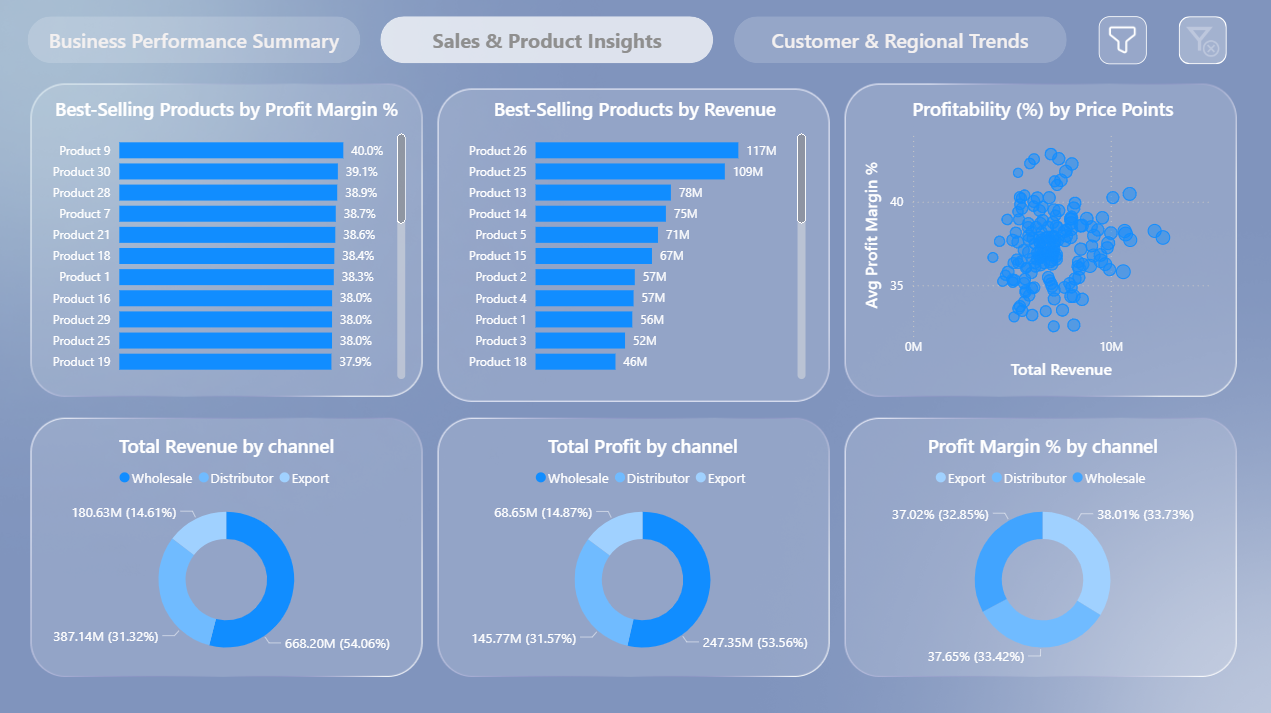

The dashboard page shown, as its layout file describes it:
{"tool":"powerbi","page":{"name":"Sales & Product Insights","canvas":[1280,720],"ordinal":1},"visuals":[{"type":"barChart","title":"Best-Selling Products by Profit Margin %","fields":{"Category":["EDA_MASTER_DATA.product_name"],"Y":["Query1.Profit Margin %"]},"box":[48,96,368,288],"z":0},{"type":"barChart","title":"Best-Selling Products by Revenue","fields":{"Category":["EDA_MASTER_DATA.product_name"],"Y":["Sum(EDA_MASTER_DATA.revenue)"]},"box":[464,96,352,288],"z":1000},{"type":"scatterChart","title":"Profitability (%) by Price Points","fields":{"X":["Customer Summary.Total Revenue"],"Y":["Customer Summary.Avg Profit Margin %"],"Size":["Sum(Customer Summary.Order Count)"]},"box":[864,96,368,288],"z":2000},{"type":"donutChart","fields":{"Category":["EDA_MASTER_DATA.channel"],"Y":["Query1.Total Revenue"]},"box":[48,432,368,240],"z":3000},{"type":"donutChart","fields":{"Category":["EDA_MASTER_DATA.channel"],"Y":["Query1.Profit Margin %"]},"box":[864,432,368,240],"z":4000},{"type":"donutChart","fields":{"Category":["EDA_MASTER_DATA.channel"],"Y":["Query1.Total Profit"]},"box":[464,432,368,240],"z":5000},{"type":"image","box":[1104,16,48,48],"z":6000},{"type":"actionButton","box":[1184,16,48,48],"z":8000},{"type":"pageNavigator","box":[32,16,1040,48],"z":9000}]}

Visuals, with their boxes in screenshot pixels (x1, y1, x2, y2), scaled from the page's 1280x720 canvas onto the 1271x713 screenshot:
"Best-Selling Products by Profit Margin %" barChart: l=48, t=95, r=413, b=380
"Best-Selling Products by Revenue" barChart: l=461, t=95, r=810, b=380
"Profitability (%) by Price Points" scatterChart: l=858, t=95, r=1223, b=380
donutChart - EDA_MASTER_DATA.channel x Query1.Total Revenue: l=48, t=428, r=413, b=665
donutChart - EDA_MASTER_DATA.channel x Query1.Profit Margin %: l=858, t=428, r=1223, b=665
donutChart - EDA_MASTER_DATA.channel x Query1.Total Profit: l=461, t=428, r=826, b=665
image: l=1096, t=16, r=1144, b=63
actionButton: l=1176, t=16, r=1223, b=63
pageNavigator: l=32, t=16, r=1064, b=63
